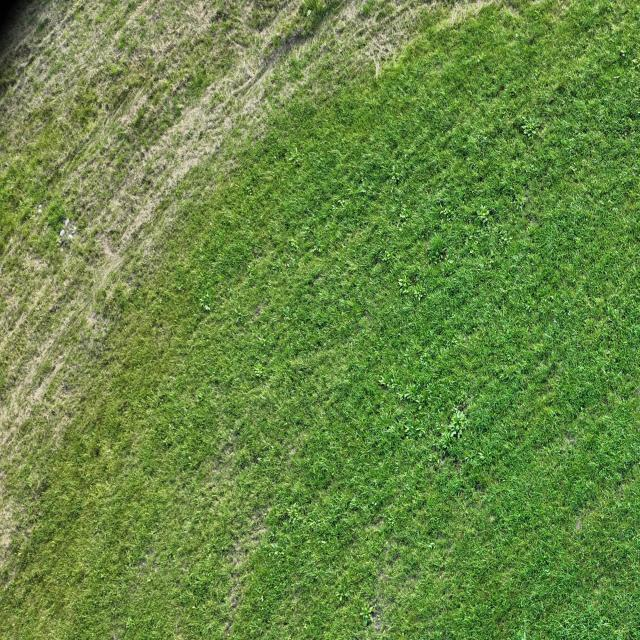rumex: (457, 218, 577, 372), (138, 351, 236, 463), (555, 390, 640, 503), (274, 483, 333, 551), (3, 174, 52, 236), (289, 0, 332, 35), (105, 82, 136, 120), (212, 13, 244, 42), (441, 413, 469, 445), (165, 76, 194, 106), (298, 271, 328, 296), (105, 59, 134, 82), (114, 28, 138, 54), (396, 272, 419, 297), (396, 380, 419, 405), (614, 44, 635, 70), (359, 602, 377, 627), (285, 145, 304, 165), (519, 124, 541, 140), (72, 4, 88, 26), (300, 2, 318, 20), (198, 293, 215, 311), (438, 204, 455, 222), (17, 419, 32, 439), (436, 247, 449, 264), (478, 206, 490, 222), (36, 20, 48, 35), (391, 171, 402, 185), (499, 234, 512, 245), (397, 277, 407, 291), (161, 436, 173, 447), (401, 422, 412, 434), (463, 454, 475, 465), (518, 195, 528, 208), (429, 452, 440, 463), (289, 238, 299, 250), (253, 366, 264, 376), (378, 378, 389, 388), (196, 129, 205, 141), (137, 149, 146, 161), (398, 212, 408, 222), (194, 392, 204, 402), (336, 198, 347, 207), (299, 227, 310, 236), (360, 609, 371, 618), (286, 154, 298, 162), (272, 549, 282, 558), (349, 498, 358, 508), (337, 592, 344, 604), (383, 250, 391, 260), (619, 49, 627, 59), (302, 622, 310, 632), (311, 246, 322, 253), (245, 72, 252, 83), (428, 541, 436, 550), (269, 542, 279, 549), (609, 2, 616, 12), (439, 453, 446, 463), (476, 452, 484, 460), (520, 632, 528, 640), (359, 186, 366, 195), (99, 572, 106, 580), (593, 3, 599, 12), (247, 272, 254, 279), (391, 165, 397, 173), (613, 75, 620, 81), (635, 58, 640, 66), (259, 595, 264, 603), (230, 182, 234, 188), (209, 221, 213, 227), (286, 262, 290, 268)
